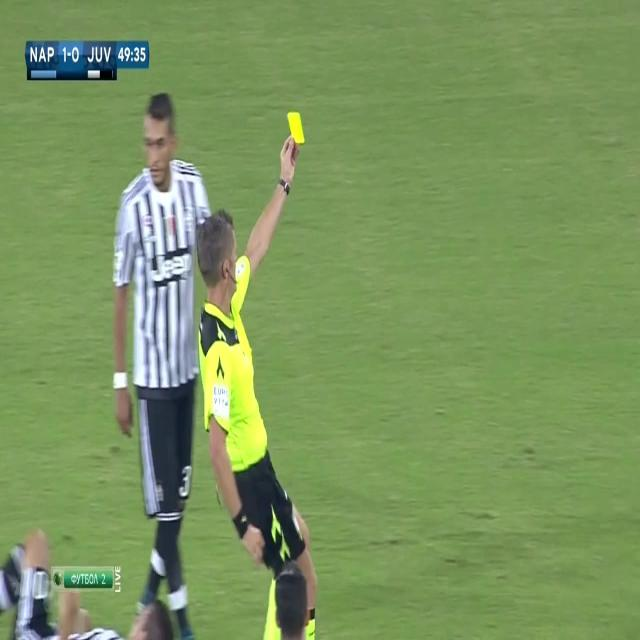Player: (108, 89, 210, 639)
Referee: (194, 136, 319, 638)
